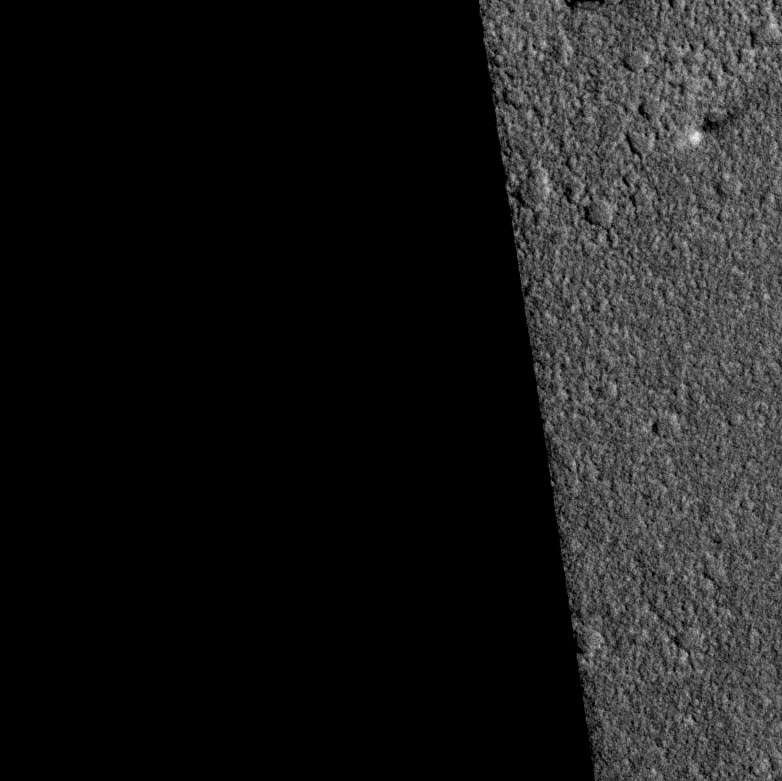dust_devil: (686, 92, 761, 149)
